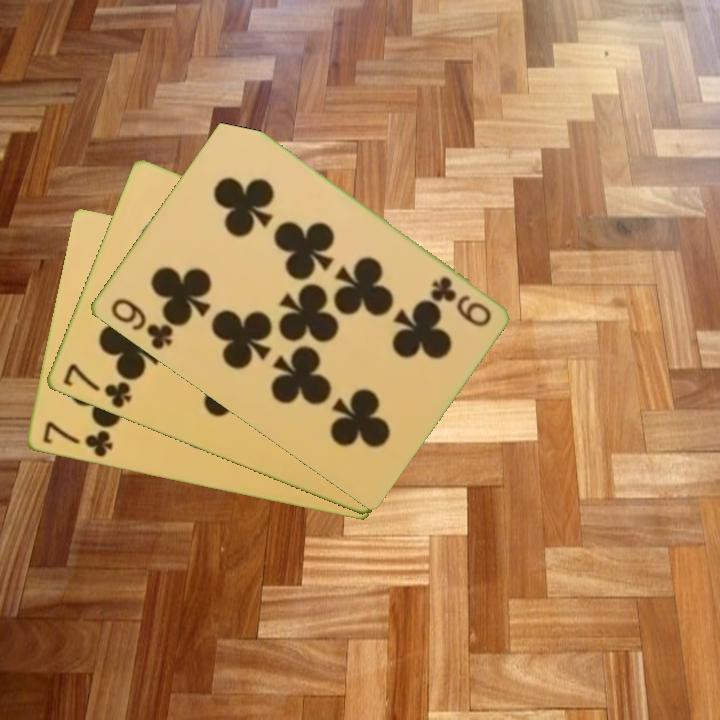7c: (59, 360, 135, 412), (38, 418, 116, 460)
9c: (106, 294, 176, 353), (426, 272, 494, 330)
